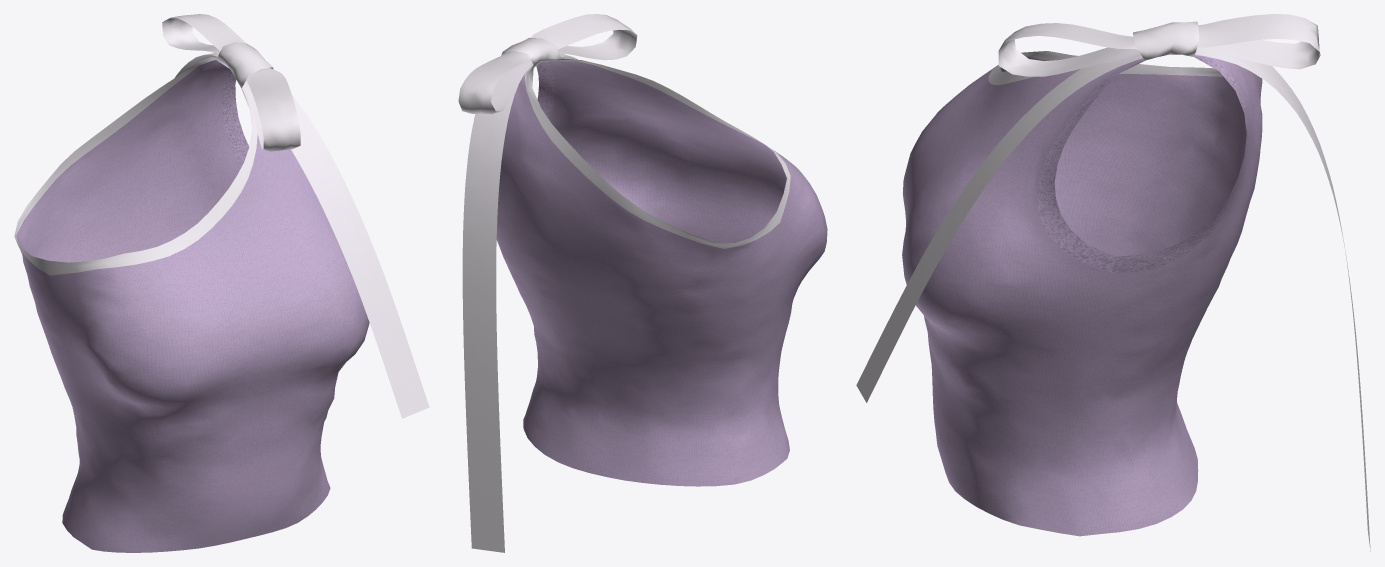
The picture shows the model from 3 angles, left to right: view 1: azimuth 30°, elevation 25°; view 2: azimuth 150°, elevation 25°; view 3: azimuth 270°, elevation 25°; orthographic projection. The views are drawn at different scales.
Visible parts, largest first — view 1: BodyTop; view 2: BodyTop; view 3: BodyTop.
Part boxes in pixels (x1=…): BodyTop: x1=14, y1=14, x2=429, y2=552; BodyTop: x1=458, y1=14, x2=827, y2=552; BodyTop: x1=856, y1=14, x2=1370, y2=551.
Bounding box in the file's own units: 0.2299 × 0.343 × 0.294.
11 materials, 11 textured.
